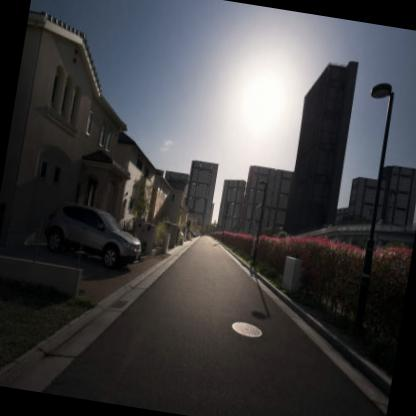manholes: (221, 296, 279, 351)
